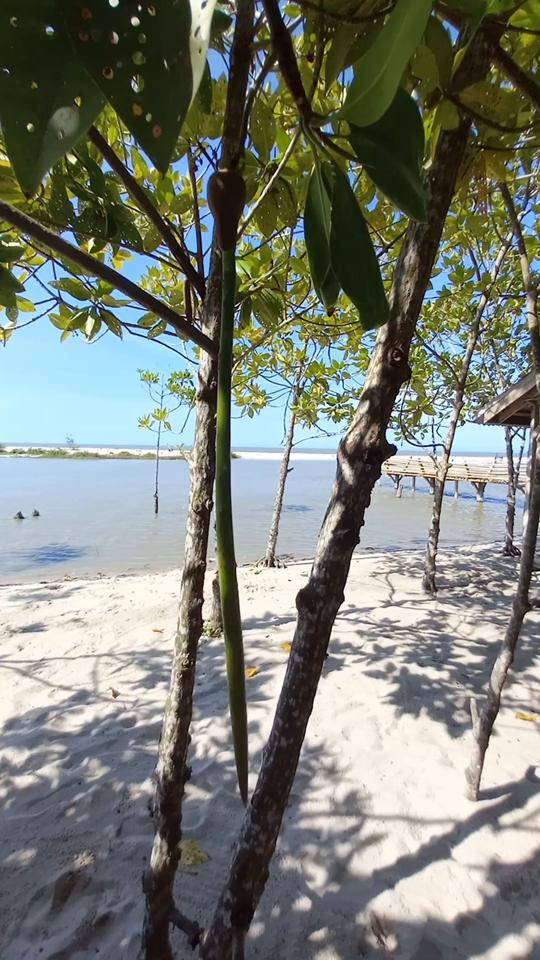setengah matang: (194, 134, 265, 815)
